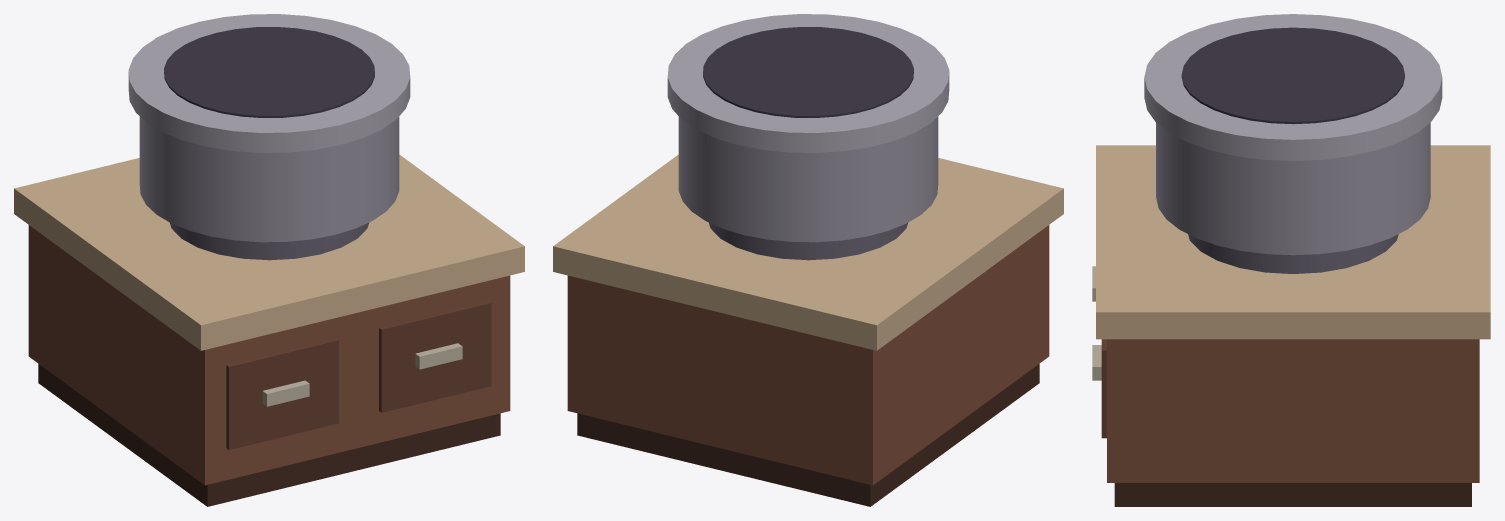
The model's file is k_meadow_mortar.glb.
3 views of the same model, side by side, from view 1: azimuth 30°, elevation 25°; view 2: azimuth 150°, elevation 25°; view 3: azimuth 270°, elevation 25° (orthographic). The views are drawn at different scales.
Visible parts, largest first — view 1: piece; view 2: piece; view 3: piece.
Boxes of the visible parts, <box> form: piece: <box>14,14,524,506</box>; piece: <box>553,14,1063,506</box>; piece: <box>1092,14,1490,506</box>.
Bounding box in the file's own units: 1.06 × 1.06 × 1.07.
